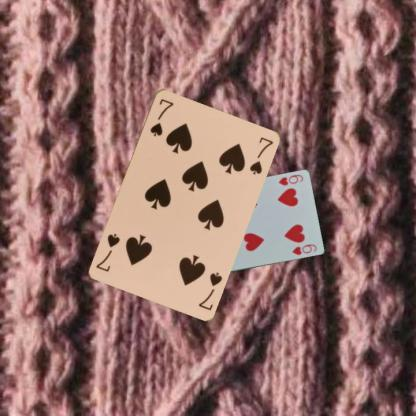6h: (276, 172, 304, 187)
7s: (195, 268, 224, 312), (148, 96, 174, 138)
